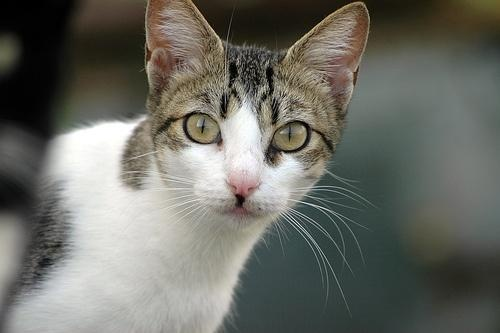cat: (5, 1, 370, 333)
